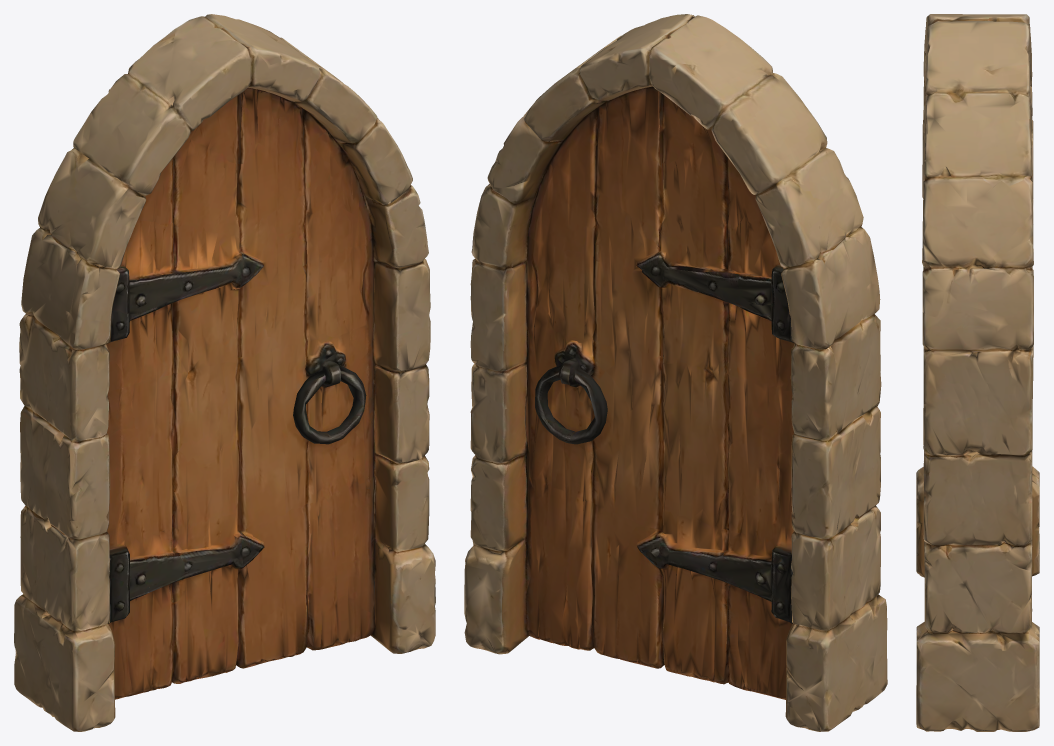
Rendered from study_door_a_v1.glb.
The picture shows the model from 3 angles, left to right: view 1: azimuth 30°, elevation 25°; view 2: azimuth 150°, elevation 25°; view 3: azimuth 270°, elevation 25°; orthographic projection.
Visible parts, largest first — view 1: tripo_node_2fad86a7-50f9-41a3-b179-bc916b053855; view 2: tripo_node_2fad86a7-50f9-41a3-b179-bc916b053855; view 3: tripo_node_2fad86a7-50f9-41a3-b179-bc916b053855.
Boxes of the visible parts, bbox=[...] form: tripo_node_2fad86a7-50f9-41a3-b179-bc916b053855: bbox=[14, 14, 435, 731]; tripo_node_2fad86a7-50f9-41a3-b179-bc916b053855: bbox=[464, 14, 887, 731]; tripo_node_2fad86a7-50f9-41a3-b179-bc916b053855: bbox=[916, 14, 1039, 731].
Size of the model in its own units: 0.5862 by 0.9798 by 0.1743.
1 material, 1 textured.
